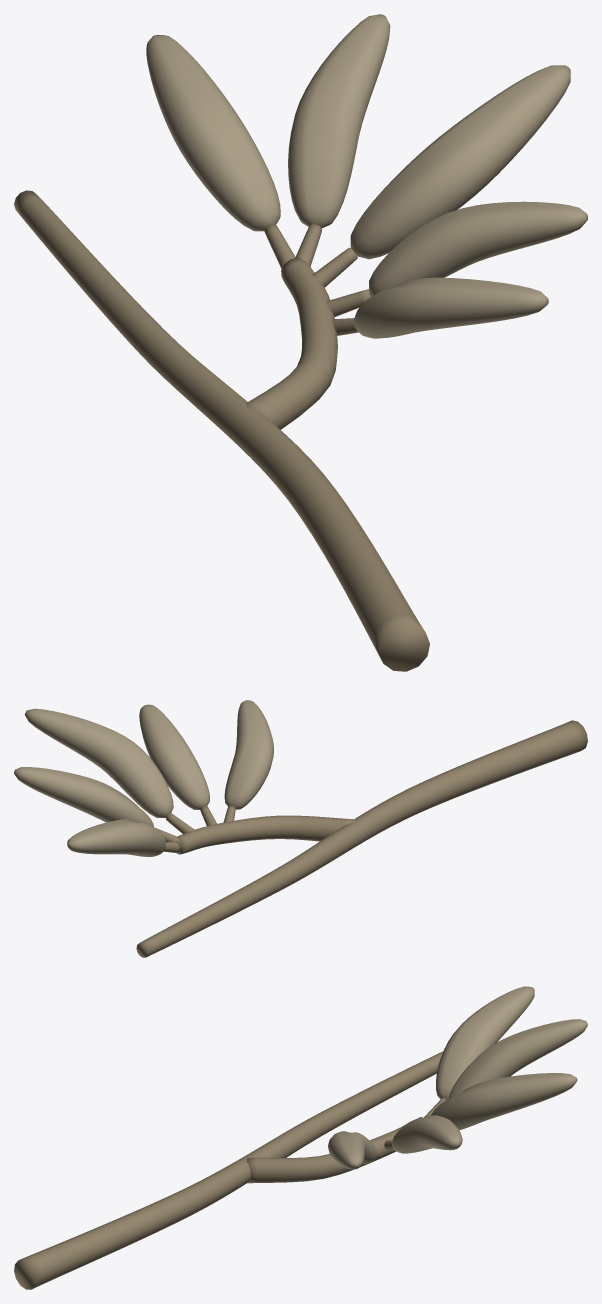
The model's file is joffrea.glb.
The picture shows the model from 3 angles, top to bottom: view 1: azimuth 30°, elevation 25°; view 2: azimuth 150°, elevation 25°; view 3: azimuth 330°, elevation 25°; orthographic projection. The views are drawn at different scales.
Parts seen in each view (by area): view 1: one-mature-twisted-follicle-bearing-state-no-detached-seeds-, preserved-longshoot-shortshoot-junction-with-attached-fruit-; view 2: one-mature-twisted-follicle-bearing-state-no-detached-seeds-, preserved-longshoot-shortshoot-junction-with-attached-fruit-; view 3: one-mature-twisted-follicle-bearing-state-no-detached-seeds-, preserved-longshoot-shortshoot-junction-with-attached-fruit-.
Part boxes in pixels (bbox=[...]): one-mature-twisted-follicle-bearing-state-no-detached-seeds-: bbox=[146, 14, 587, 338]; preserved-longshoot-shortshoot-junction-with-attached-fruit-: bbox=[14, 190, 429, 671]; one-mature-twisted-follicle-bearing-state-no-detached-seeds-: bbox=[14, 700, 273, 856]; preserved-longshoot-shortshoot-junction-with-attached-fruit-: bbox=[136, 720, 587, 957]; one-mature-twisted-follicle-bearing-state-no-detached-seeds-: bbox=[328, 986, 587, 1169]; preserved-longshoot-shortshoot-junction-with-attached-fruit-: bbox=[14, 1051, 446, 1289].
Bounding box in the file's own units: 0.1052 × 0.0377 × 0.18.
